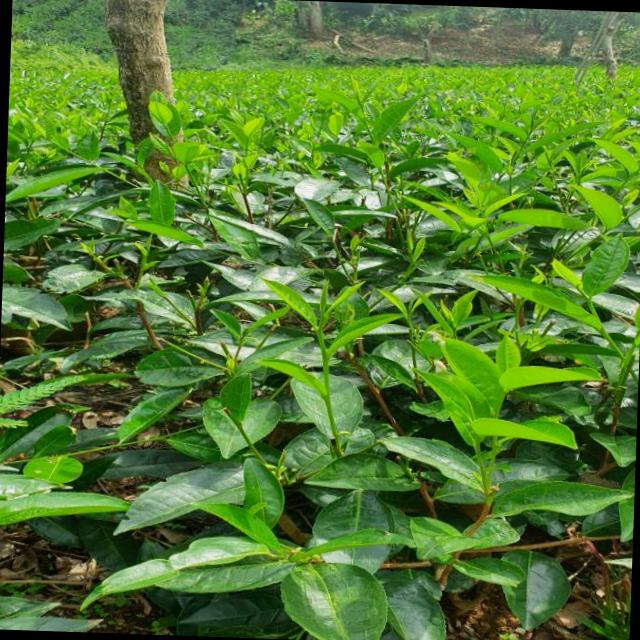Stem: (316, 334, 325, 352), (587, 301, 597, 315), (474, 450, 482, 466), (399, 267, 409, 279), (631, 332, 638, 343), (406, 319, 413, 328), (362, 120, 368, 129), (524, 131, 530, 138), (237, 339, 240, 346)
